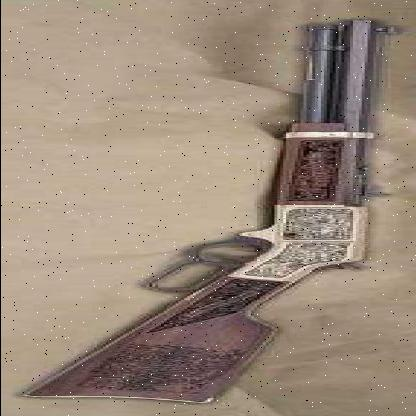rifle: (6, 15, 407, 412)
